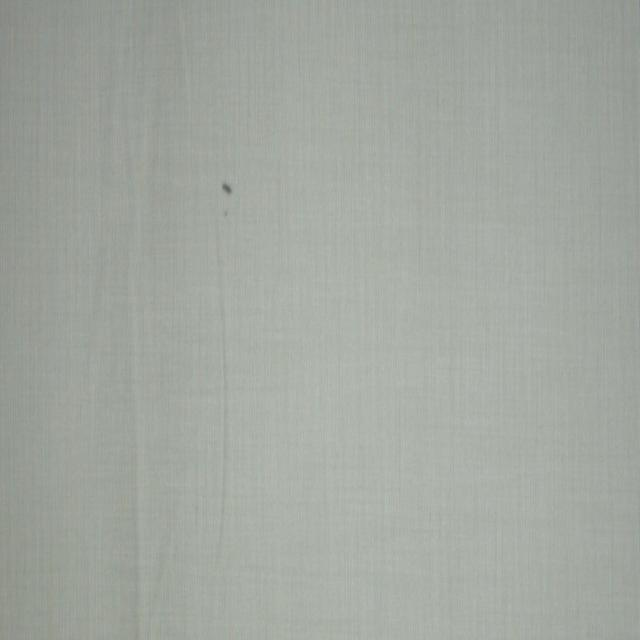dirty: (221, 179, 232, 197)
